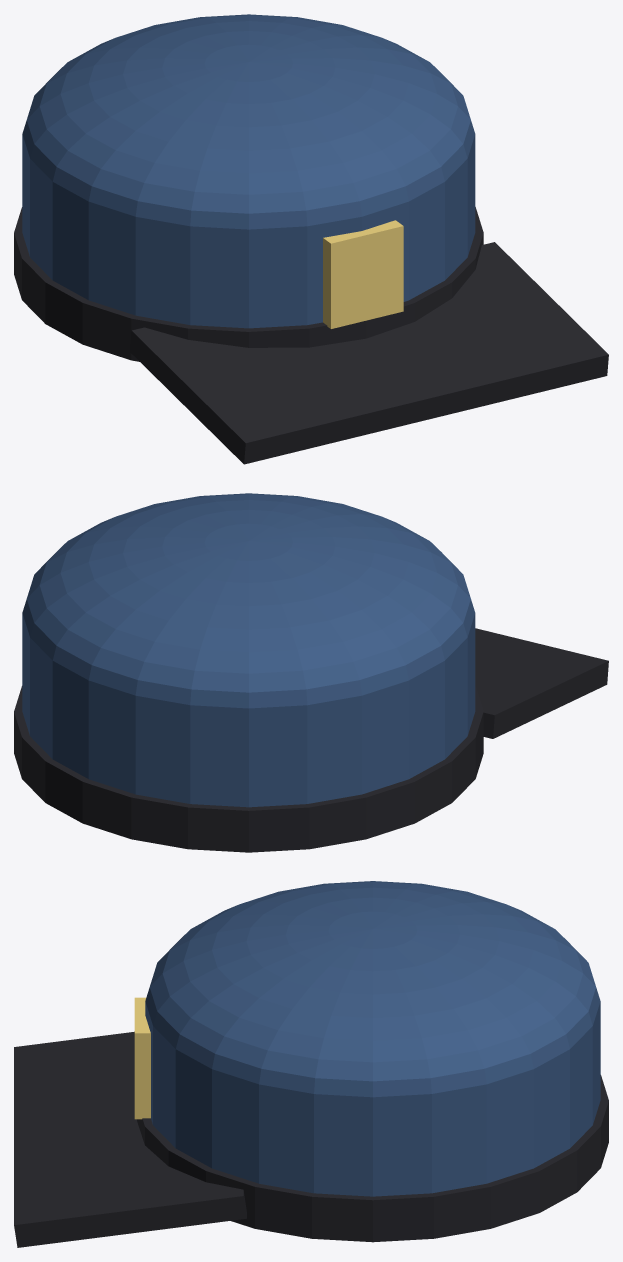
The model's file is wear_cap.glb.
3 views of the same model, one above another, from view 1: azimuth 30°, elevation 25°; view 2: azimuth 150°, elevation 25°; view 3: azimuth 270°, elevation 25° (orthographic).
Visible parts, largest first — view 1: Top, Peak, Crown, Band, Badge; view 2: Top, Crown, Band, Peak; view 3: Top, Crown, Peak, Band, Badge.
Boxes of the visible parts, bbox=[...] form: Top: bbox=[22, 14, 475, 229]; Peak: bbox=[130, 242, 608, 464]; Crown: bbox=[22, 134, 475, 328]; Band: bbox=[14, 207, 483, 361]; Badge: bbox=[323, 220, 403, 328]; Top: bbox=[22, 493, 475, 708]; Crown: bbox=[22, 613, 475, 807]; Band: bbox=[14, 686, 483, 852]; Peak: bbox=[475, 628, 608, 738]; Top: bbox=[145, 881, 600, 1097]; Crown: bbox=[145, 1001, 600, 1196]; Peak: bbox=[14, 1031, 246, 1247]; Band: bbox=[137, 1075, 608, 1242]; Badge: bbox=[134, 997, 150, 1119].
Bounding box in the file's own units: 0.224 × 0.1204 × 0.2823.
